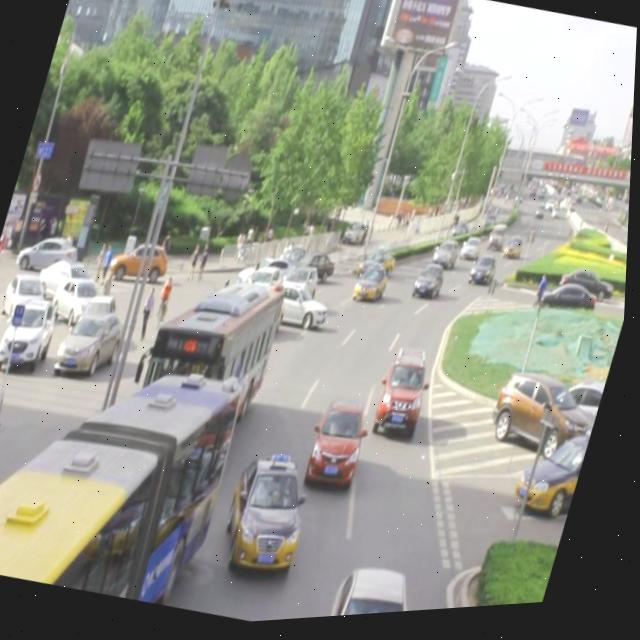car: (221, 449, 325, 577), (305, 396, 377, 496), (374, 345, 442, 446), (328, 558, 434, 622), (266, 277, 339, 343), (237, 251, 298, 306), (188, 292, 239, 357), (240, 291, 294, 348), (273, 264, 322, 322), (241, 265, 289, 323), (287, 246, 342, 290), (353, 264, 394, 312), (358, 247, 401, 287), (413, 265, 450, 309), (468, 256, 503, 294), (431, 238, 464, 278)
van: (0, 316, 252, 622), (136, 262, 292, 442)
